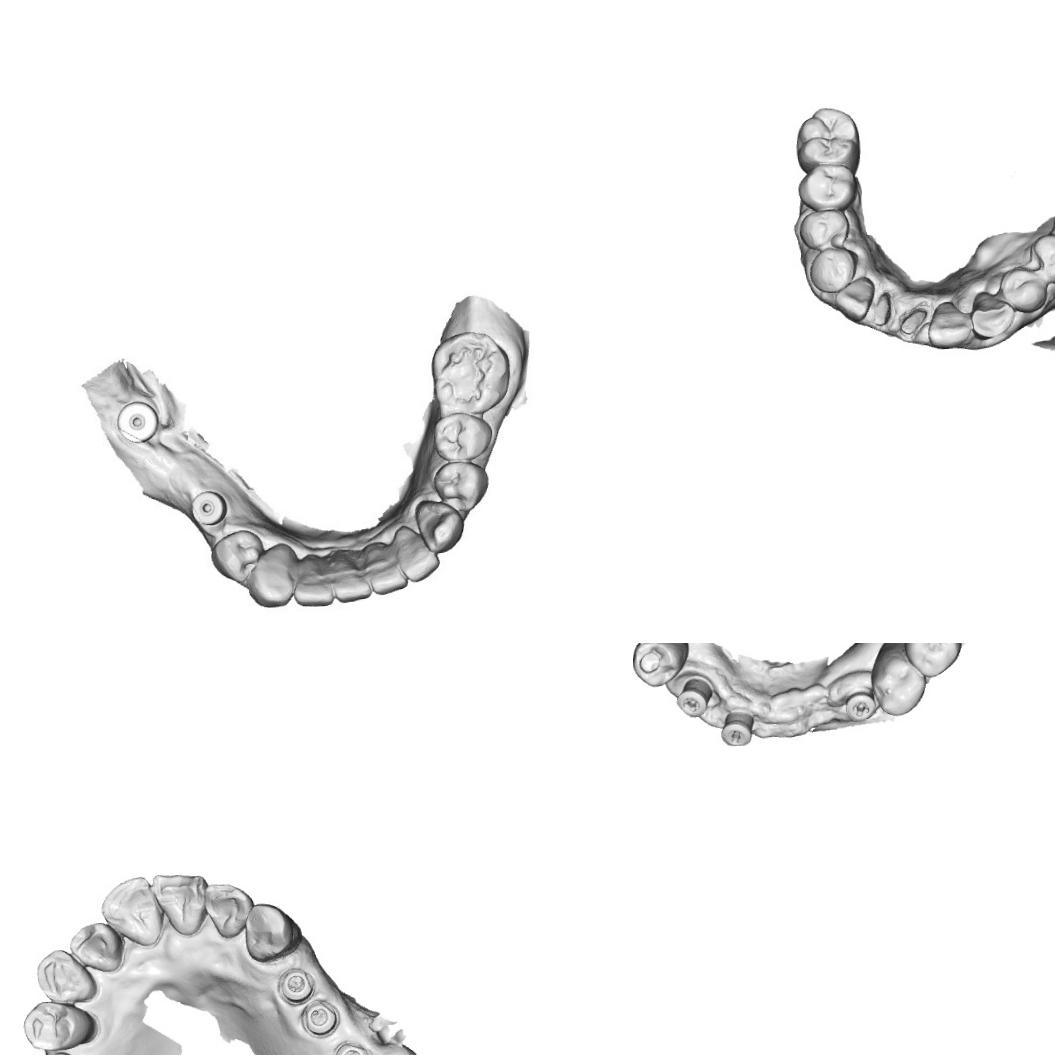canine: (240, 900, 303, 965), (33, 945, 99, 1006), (205, 526, 262, 586), (416, 498, 464, 554), (807, 245, 859, 294), (970, 289, 1016, 340)
crown: (898, 305, 928, 334), (871, 290, 892, 327)
implant: (114, 395, 161, 450), (274, 964, 316, 1006), (300, 998, 340, 1038), (190, 485, 224, 528), (332, 1039, 370, 1055)
implant_minus: (717, 712, 755, 747)
implant_plus: (674, 680, 714, 718), (843, 692, 876, 727)
incisor: (98, 873, 165, 948), (150, 870, 210, 938), (65, 919, 125, 975), (201, 880, 256, 940), (924, 298, 973, 350), (254, 548, 297, 600), (832, 275, 876, 323), (365, 547, 406, 596), (330, 552, 368, 603), (294, 558, 330, 610), (396, 528, 434, 575)
molar: (434, 331, 510, 412), (794, 104, 862, 178)
premolar: (20, 996, 99, 1054), (868, 644, 928, 720), (431, 458, 490, 515), (795, 161, 857, 212), (432, 412, 490, 462), (998, 264, 1048, 314), (796, 208, 850, 252), (633, 643, 685, 688), (901, 643, 964, 679), (1027, 231, 1055, 286)
